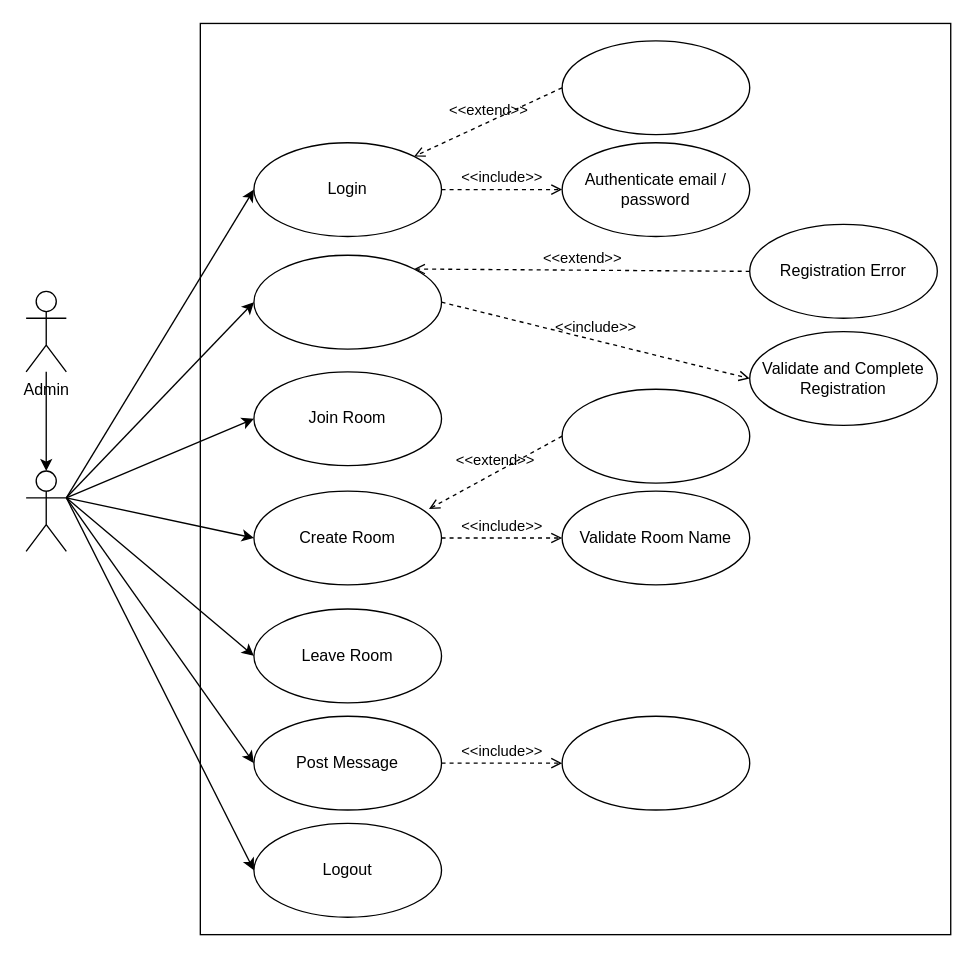
Image size: 974x958. Some labels were removed from this diagram. Each missing label, with the box of its shape:
Authentication error: (561, 40, 750, 135)
Invalid Room Name error: (561, 388, 750, 483)
Register: (253, 254, 442, 349)
User: (25, 470, 66, 551)
Validate Message Text: (561, 715, 750, 810)
